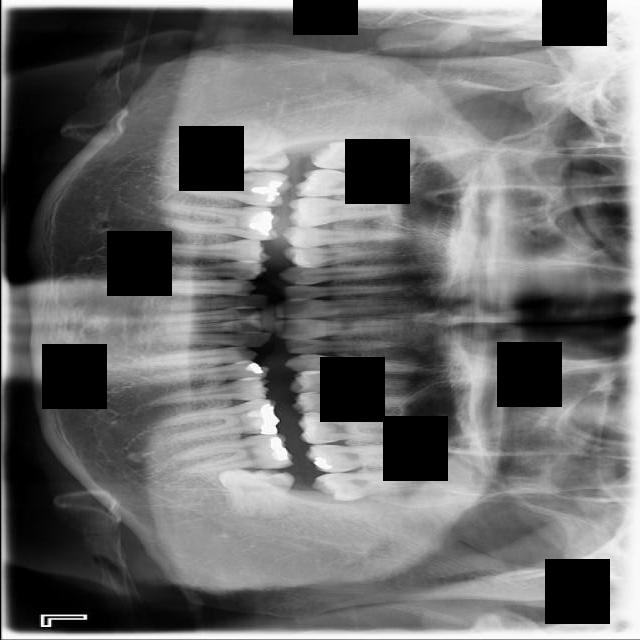3M ESPE Implant: (309, 139, 415, 174)
52: (242, 422, 297, 479), (229, 394, 284, 443), (240, 169, 293, 209), (231, 203, 282, 244), (304, 442, 351, 476), (225, 359, 269, 382)
73: (53, 578, 67, 582)
BioHorizons Implant: (302, 444, 428, 475)
BioLife Implant: (310, 472, 426, 501)
Biomet 3i Implant: (217, 468, 294, 517)
Blue Sky Bio Implant: (173, 430, 295, 476)
Caries: (293, 166, 424, 198)
Implant: (166, 167, 290, 208)
Keystone Dental Implant: (211, 122, 291, 174)
